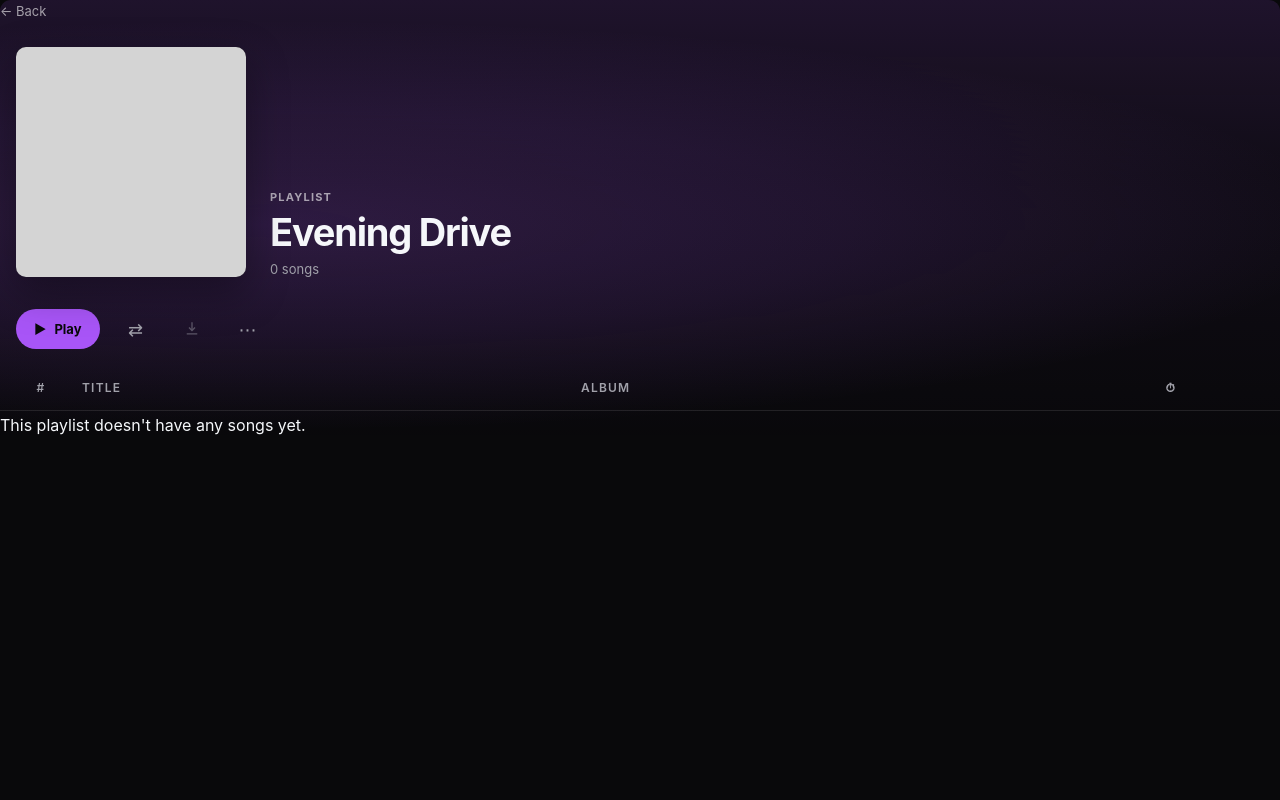
Test: closes the edit details dialog with Escape
The image size is (1280, 800).
Click the button named "More options" at (248, 329), box x1=228 y1=309 x2=268 y2=349
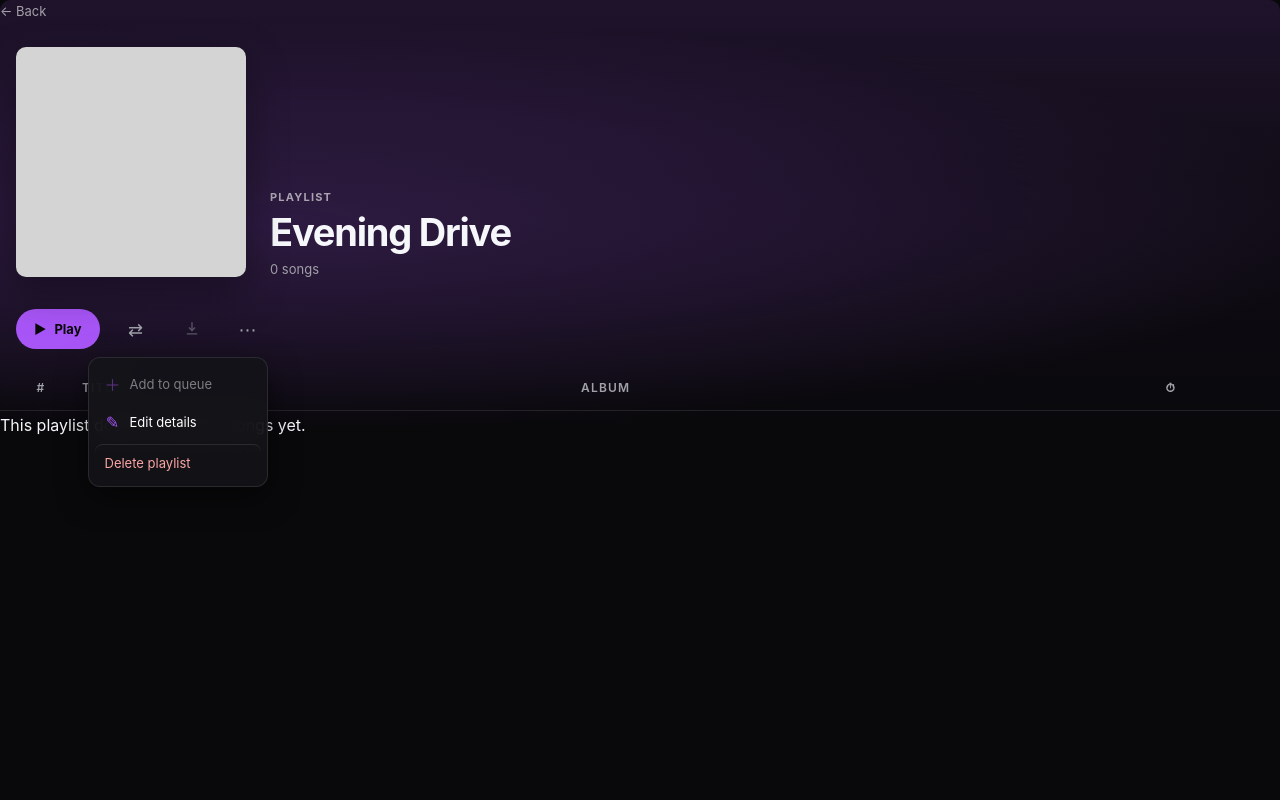
Click the menu item "✎ Edit details" at (178, 422), box x1=94 y1=404 x2=260 y2=440
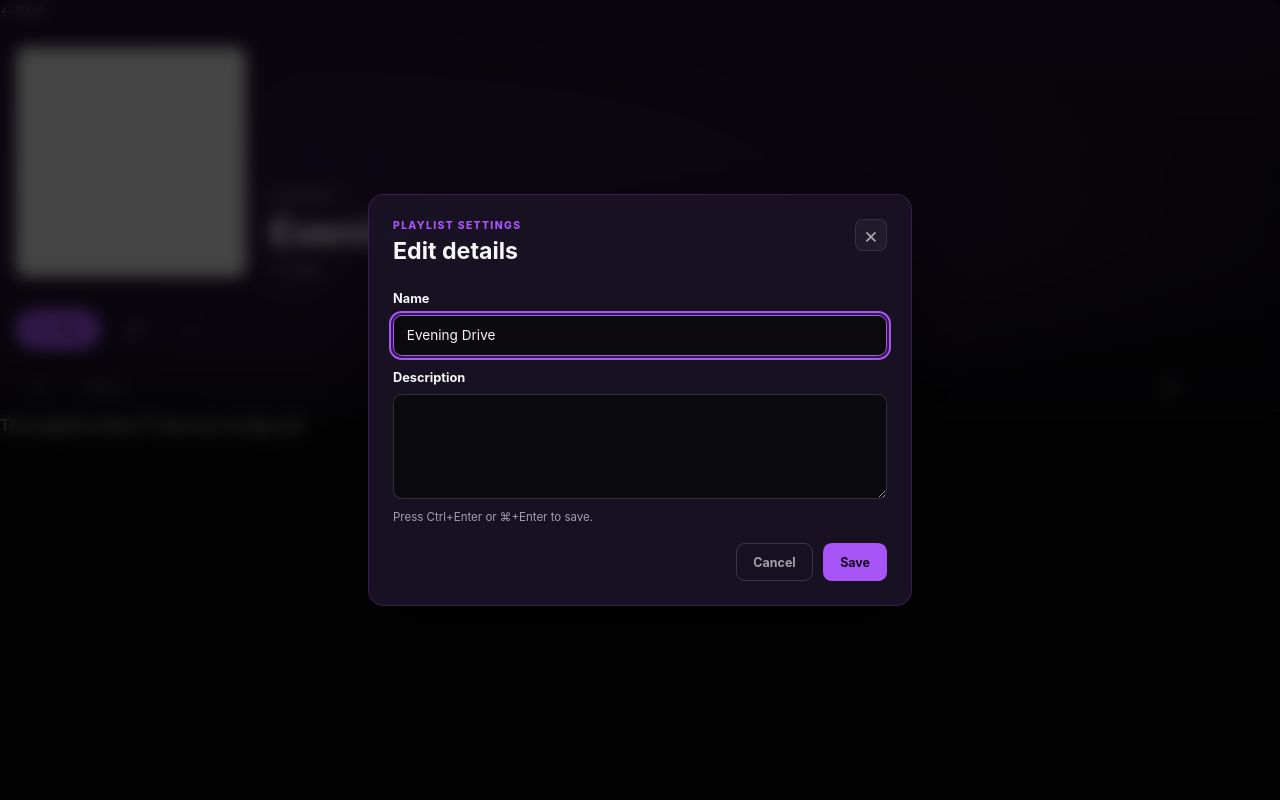
Expected: the dialog "Edit details" is shown, x1=368 y1=194 x2=912 y2=606
Press Escape
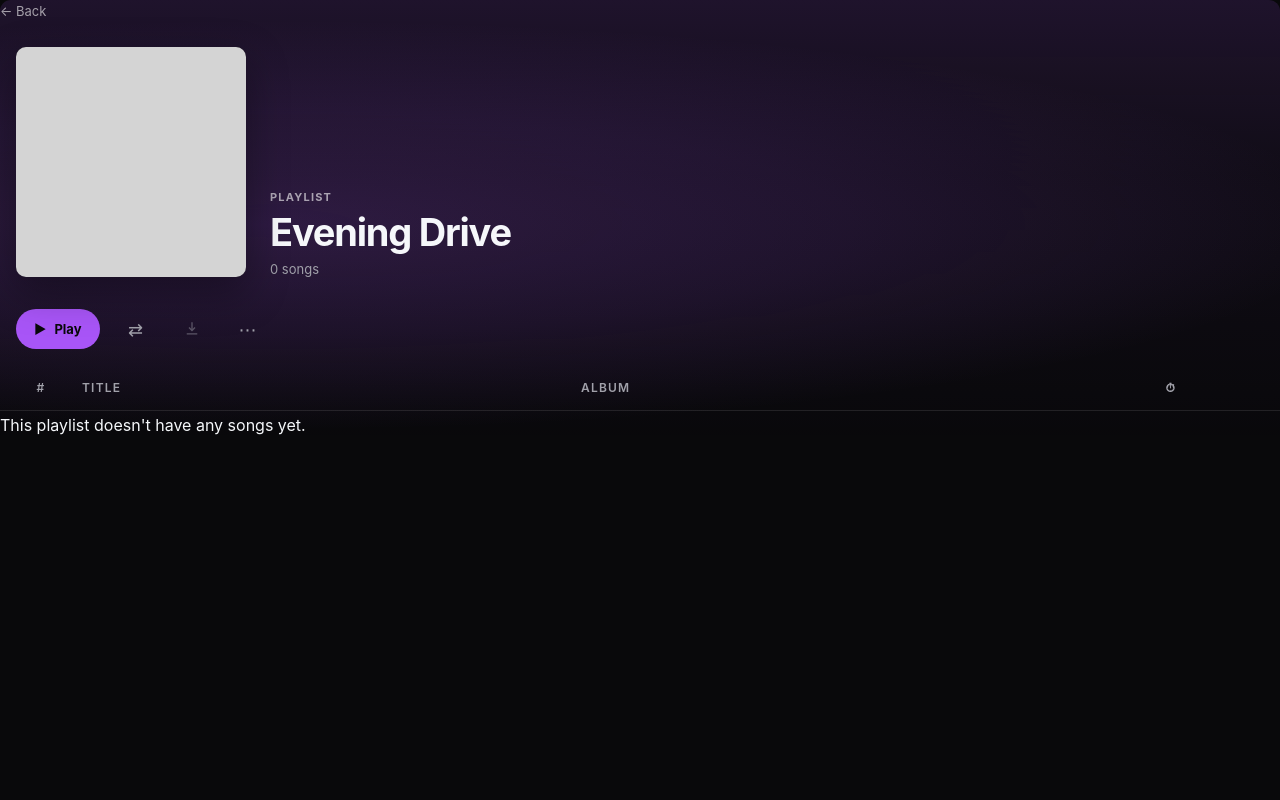
Expected: the heading "Edit details" is gone
